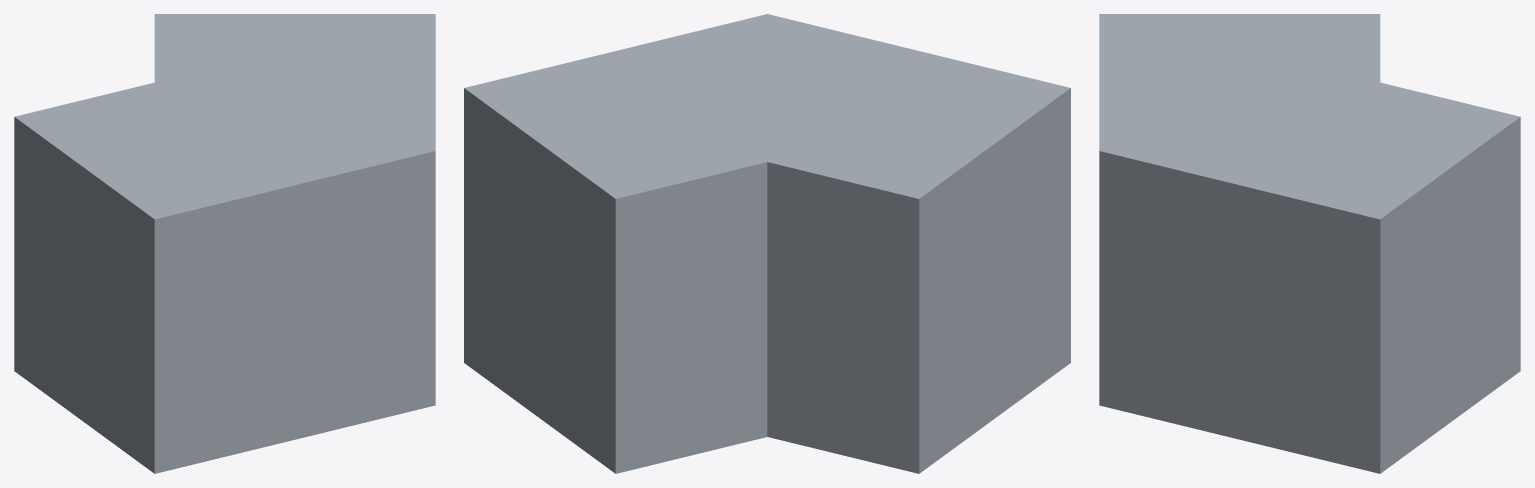
The model's file is wall_corner2.fbx.
3 renders of one model, left to right at view 1: azimuth 30°, elevation 25°; view 2: azimuth 150°, elevation 25°; view 3: azimuth 270°, elevation 25°, orthographic. The views are drawn at different scales.
Parts seen in each view (by area): view 1: Cylinder; view 2: Cylinder; view 3: Cylinder.
Boxes of the visible parts, x1,y1,x2,y2 form: Cylinder: (14,14,435,473); Cylinder: (464,14,1070,473); Cylinder: (1099,14,1520,473).
Size of the model in its own units: 1.73 by 1 by 1.5.
